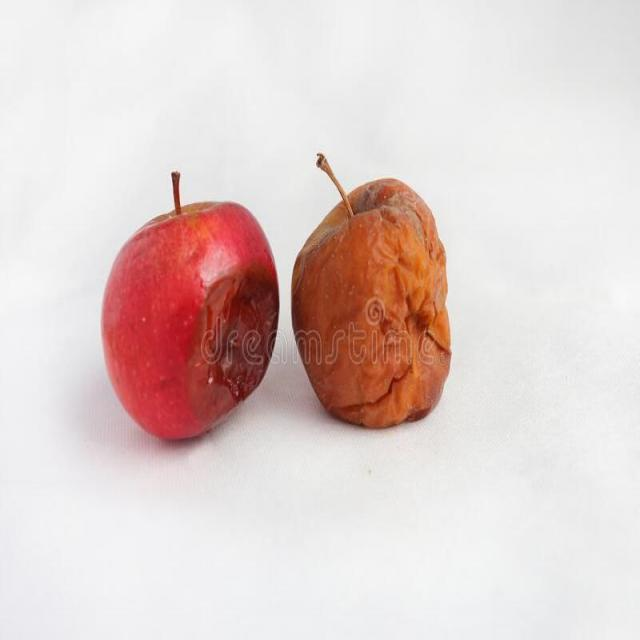Rotten: (282, 172, 463, 443), (103, 192, 280, 450)
